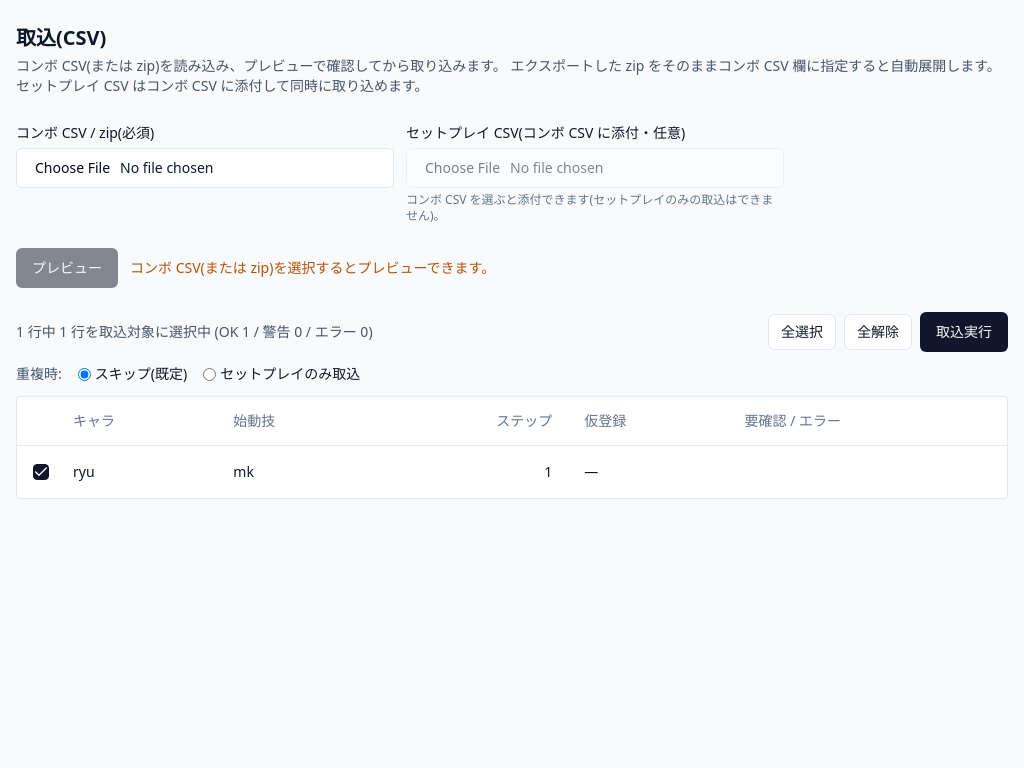
ComboImportPage › 取込実行の確認ダイアログ(SM-121) › 押しただけでは取り込まず、確認を出す
This screenshot has width=1024, height=768.
Click the button "取込実行".
click(964, 332)  # box [920,312,1008,352]
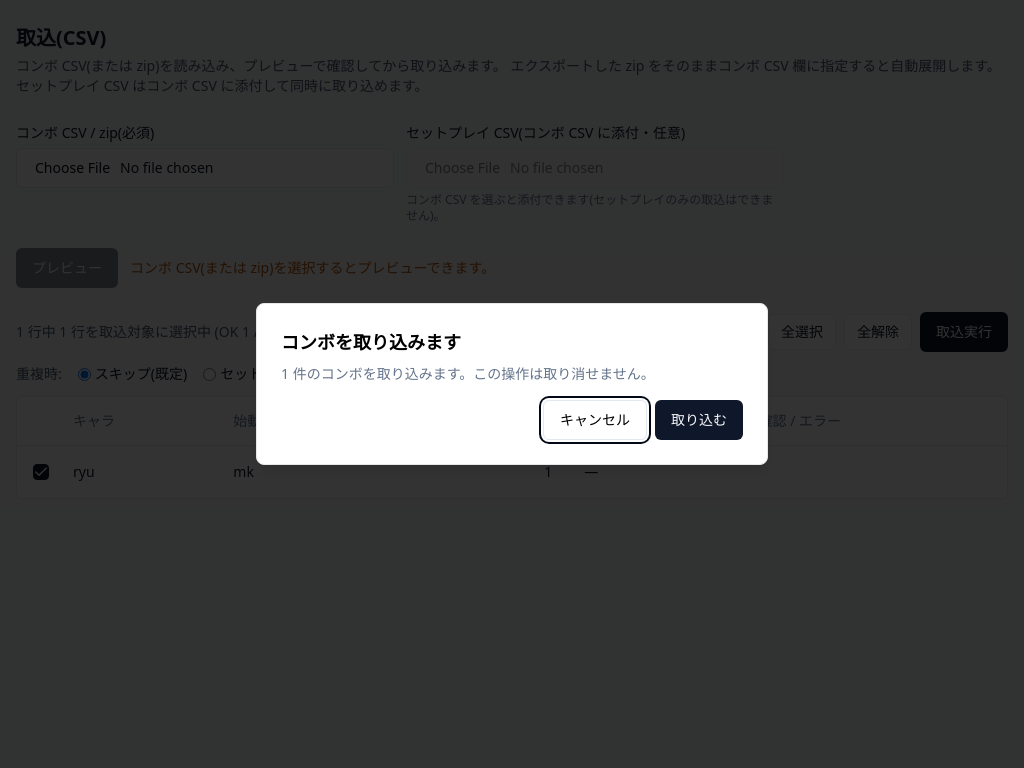
Expected: the dialog is shown, [256,303,768,465]
